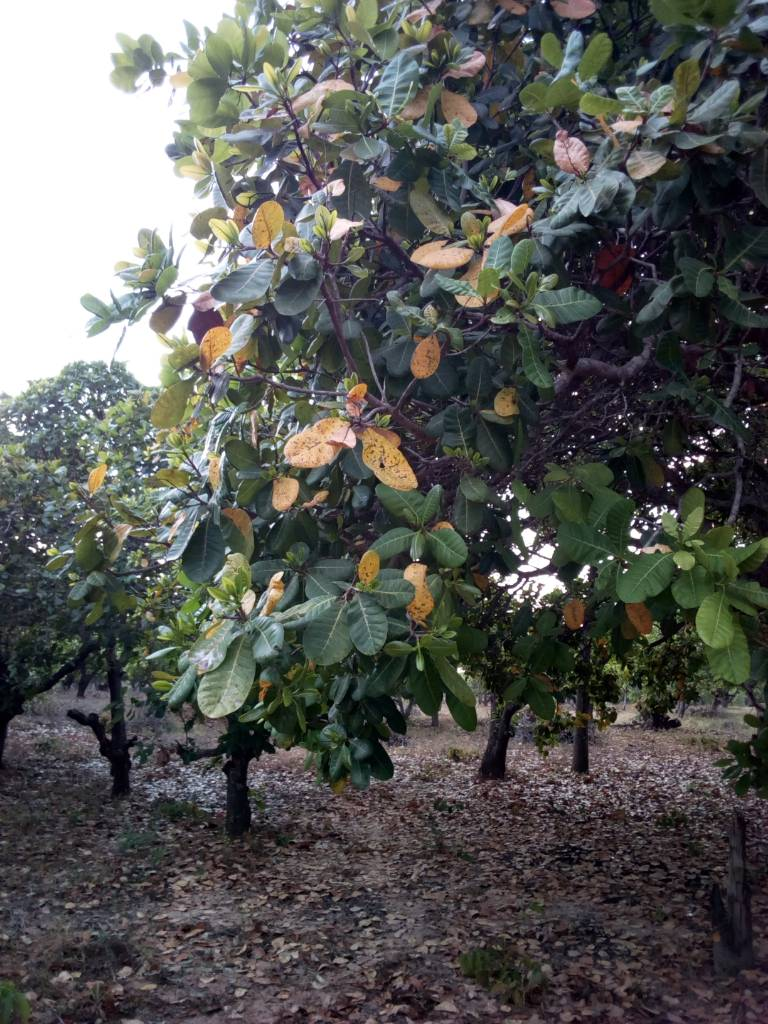Bactériose: (363, 424, 419, 496), (288, 419, 352, 469), (408, 335, 440, 378)
